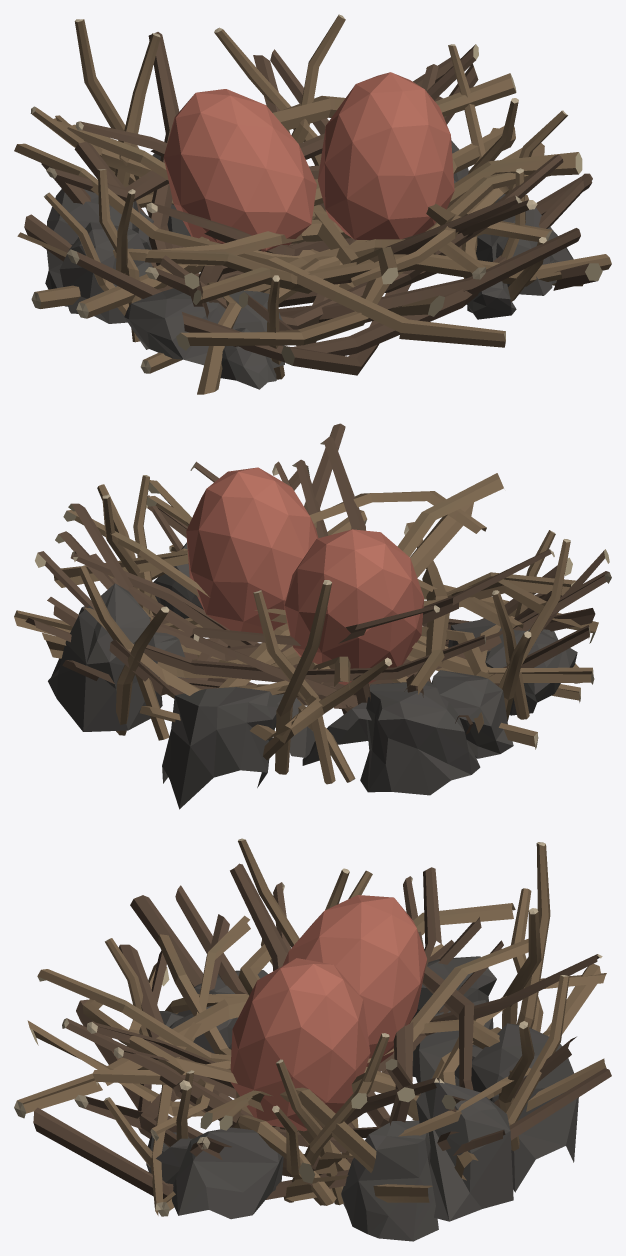
The model's file is rocNest.fbx.
3 views of the same model, one above another, from view 1: azimuth 30°, elevation 25°; view 2: azimuth 150°, elevation 25°; view 3: azimuth 270°, elevation 25° (orthographic). The views are drawn at different scales.
Visible parts, largest first — view 1: rocNest; view 2: rocNest; view 3: rocNest.
Boxes of the visible parts, x1,y1,x2,y2 form: rocNest: [14, 14, 611, 394]; rocNest: [14, 423, 611, 809]; rocNest: [14, 838, 611, 1241].
Bounding box in the file's own units: 3.07 × 1.48 × 3.06.
Materials: 1 (1 with a texture image).
